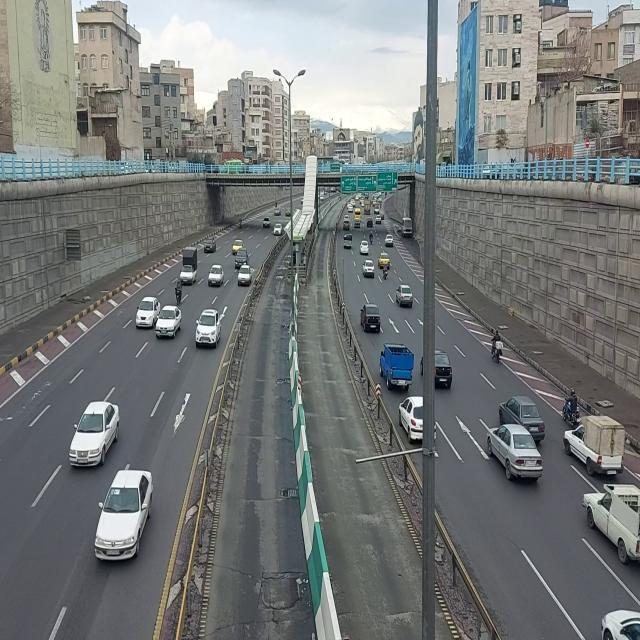Bus: (562, 389, 582, 429)
Car: (93, 466, 157, 562), (68, 401, 121, 469), (485, 423, 545, 483), (497, 394, 546, 430), (397, 394, 424, 448), (194, 306, 224, 348), (156, 305, 183, 339), (135, 296, 160, 330), (434, 348, 454, 387), (360, 301, 384, 331), (396, 285, 415, 308), (208, 264, 225, 289), (235, 247, 249, 270), (238, 265, 252, 287), (362, 260, 376, 280), (203, 236, 217, 254), (378, 252, 390, 270), (232, 239, 244, 253), (360, 240, 370, 256), (273, 223, 283, 237), (385, 233, 395, 247), (263, 217, 271, 229), (366, 217, 374, 229), (343, 220, 351, 232), (354, 218, 361, 229), (275, 207, 282, 217), (285, 206, 291, 216), (375, 214, 381, 224), (344, 215, 351, 223), (348, 205, 354, 213)
Motorcycle: (491, 330, 504, 366), (175, 278, 183, 306), (383, 259, 389, 281), (238, 215, 243, 230), (370, 230, 374, 245), (275, 199, 278, 209)
Pickup: (583, 481, 639, 567), (564, 414, 627, 478), (379, 341, 416, 393), (180, 246, 198, 286), (343, 232, 353, 250), (374, 203, 380, 215)
Truck: (364, 199, 372, 215)
